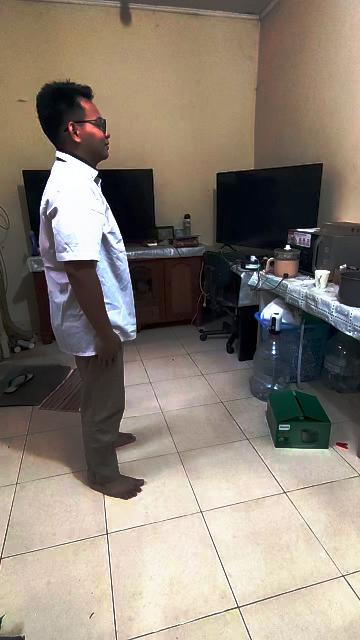berdiri: (23, 75, 147, 518)
